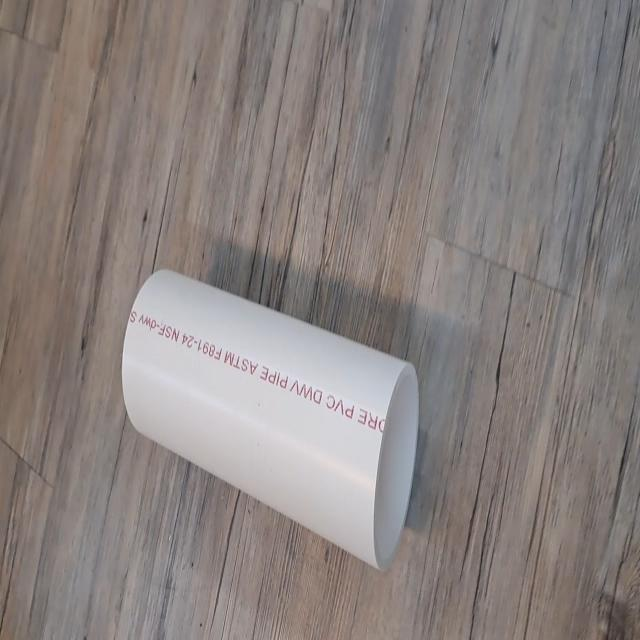CORAL: (119, 264, 422, 574)
